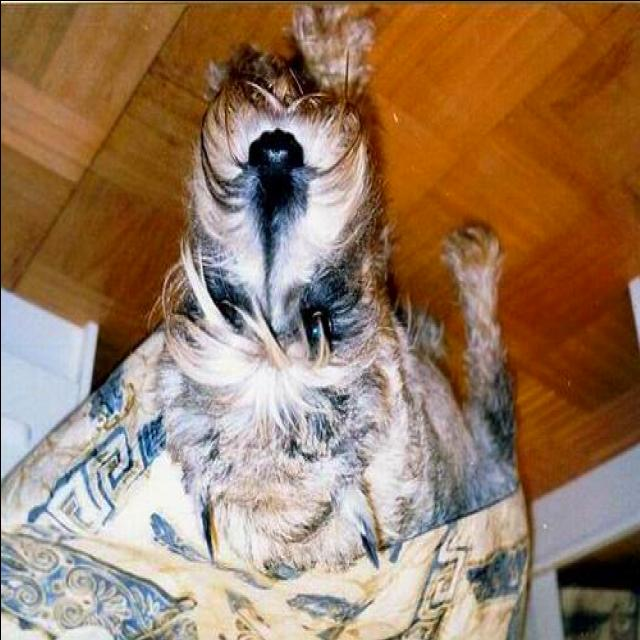standard_schnauzer: (146, 1, 520, 578)
